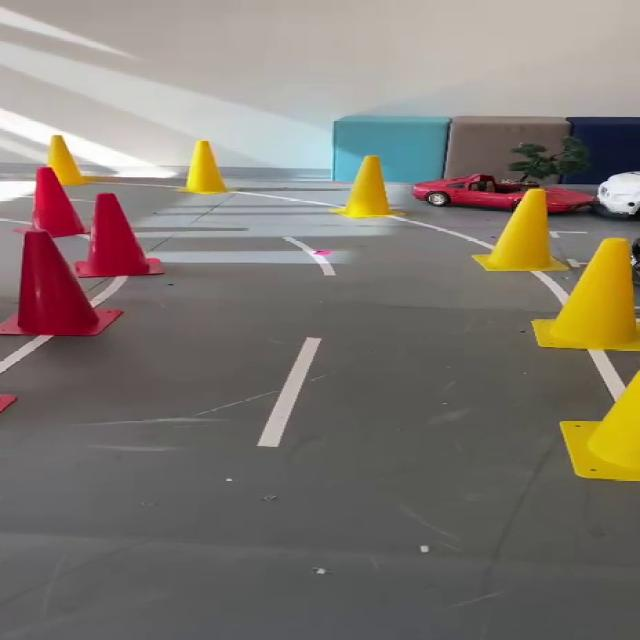Cone-red: (0, 193, 163, 337), (33, 167, 83, 238)
Cones-yellow: (532, 238, 639, 351), (561, 371, 639, 481), (473, 188, 568, 270), (334, 156, 393, 218), (47, 135, 102, 185), (183, 140, 229, 194)
